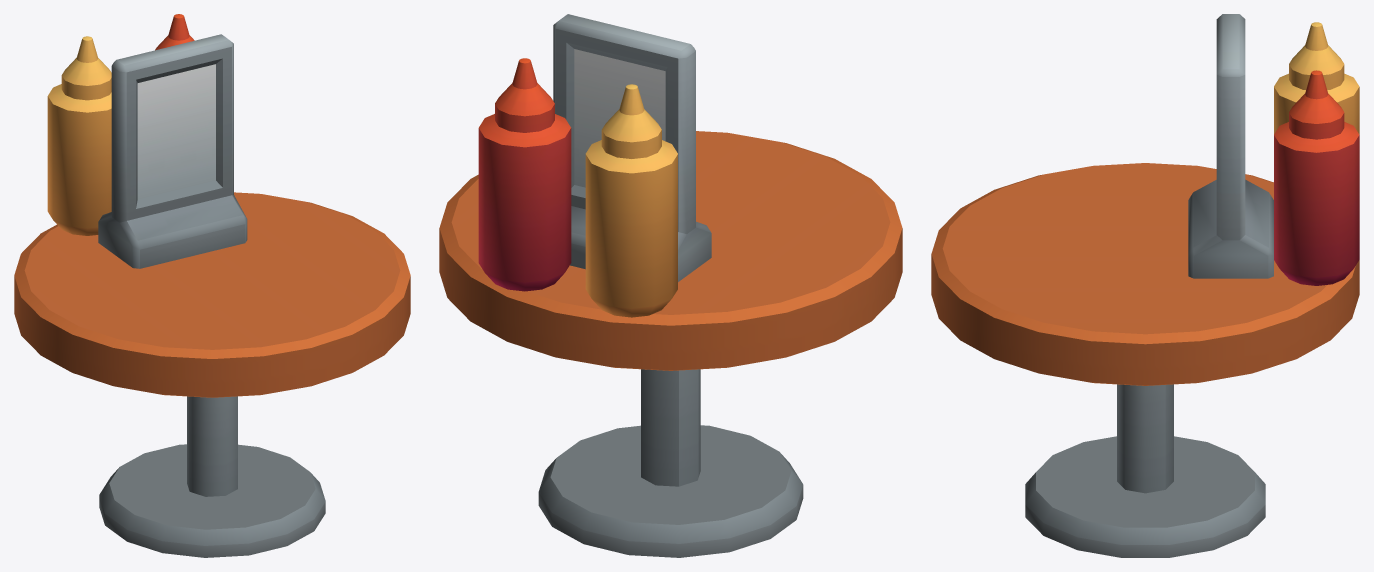
Rendered from kaykit-restaurant-bits-table-round-a-small-decorated.glb.
3 views of the same model, side by side, from view 1: azimuth 30°, elevation 25°; view 2: azimuth 150°, elevation 25°; view 3: azimuth 270°, elevation 25° (orthographic). The views are drawn at different scales.
Parts seen in each view (by area): view 1: table_round_A_small_decorated; view 2: table_round_A_small_decorated; view 3: table_round_A_small_decorated.
Boxes of the visible parts, <box> form: table_round_A_small_decorated: <box>14,14,410,557</box>; table_round_A_small_decorated: <box>439,14,902,557</box>; table_round_A_small_decorated: <box>931,14,1359,557</box>.
Size of the model in its own units: 1.5 by 1.8 by 1.5.
1 material, 1 textured.
